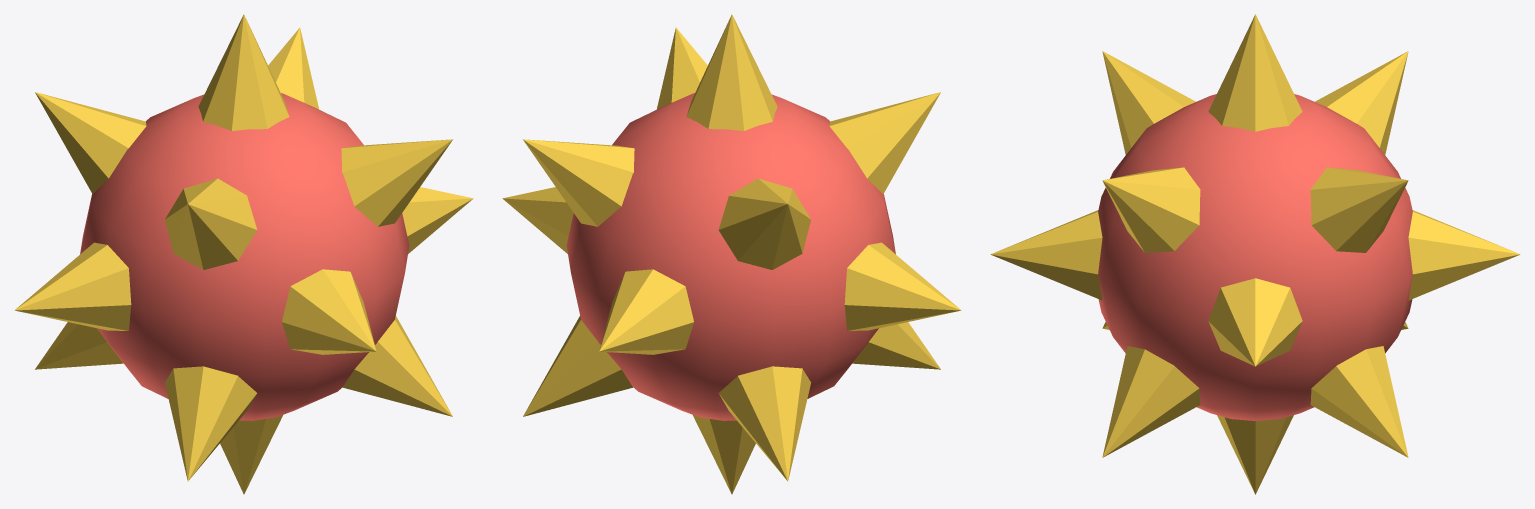
The model's file is Item_Projectile.fbx.
3 views of the same model, side by side, from view 1: azimuth 30°, elevation 25°; view 2: azimuth 150°, elevation 25°; view 3: azimuth 270°, elevation 25° (orthographic).
Visible parts, largest first — view 1: Item_Projectile; view 2: Item_Projectile; view 3: Item_Projectile.
Part boxes in pixels (bbox=[...]): Item_Projectile: bbox=[14, 14, 473, 494]; Item_Projectile: bbox=[502, 14, 961, 494]; Item_Projectile: bbox=[990, 14, 1520, 494].
Size of the model in its own units: 0.7 by 0.7 by 0.7.
